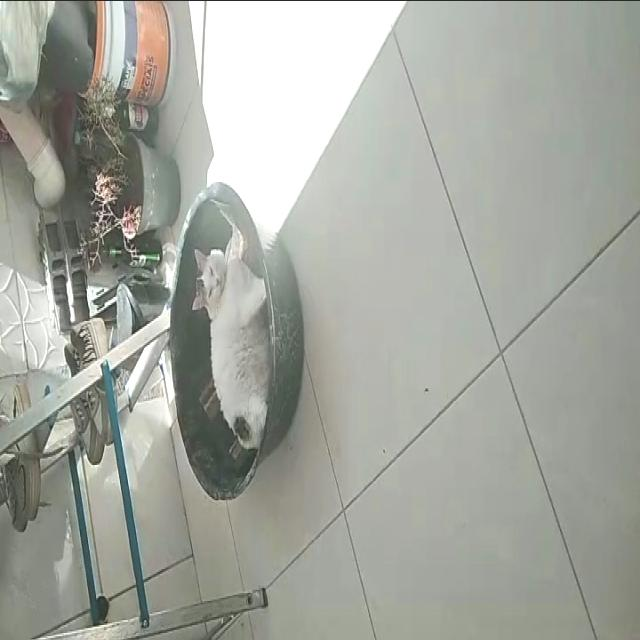Simba: (200, 222, 270, 426)
